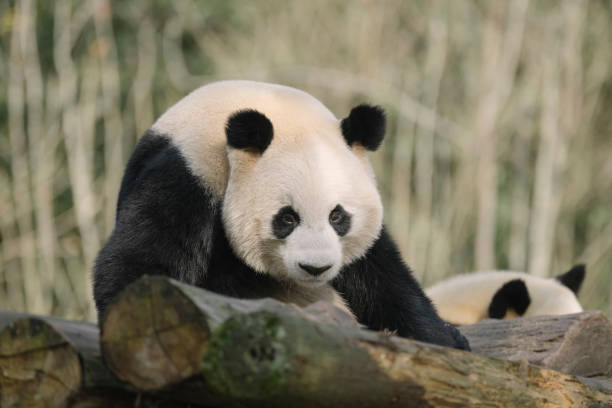panda: (206, 85, 397, 310)
